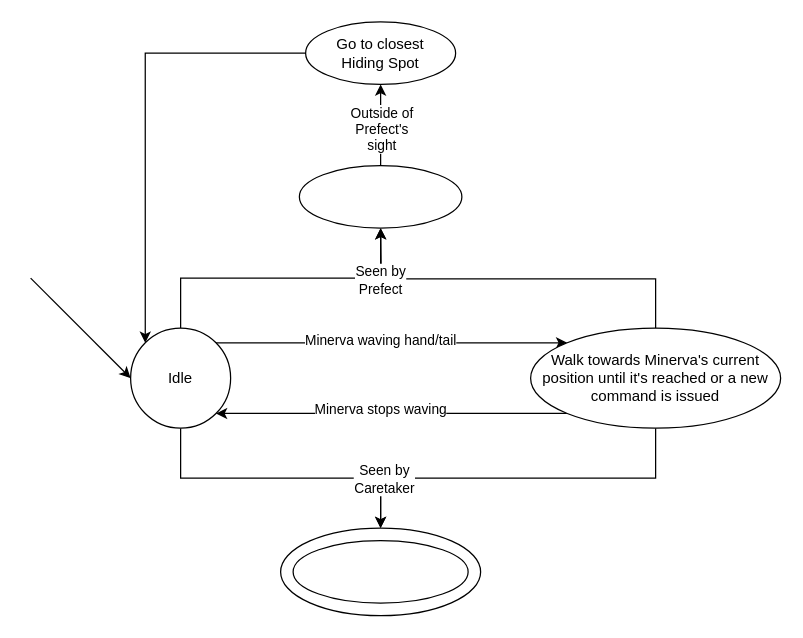
This 803x638 diagram has some shape labels left out. The box of each missing label's shape, as (x1, y1, x2, y2) in pixels:
Escorted to Dormitory: (292, 539, 468, 603)
Move towards Dormitory: (298, 164, 462, 228)
